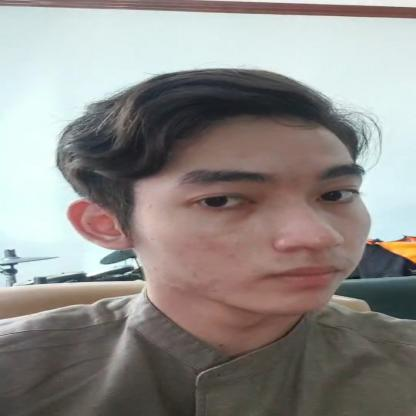Palm: (21, 51, 415, 336)
